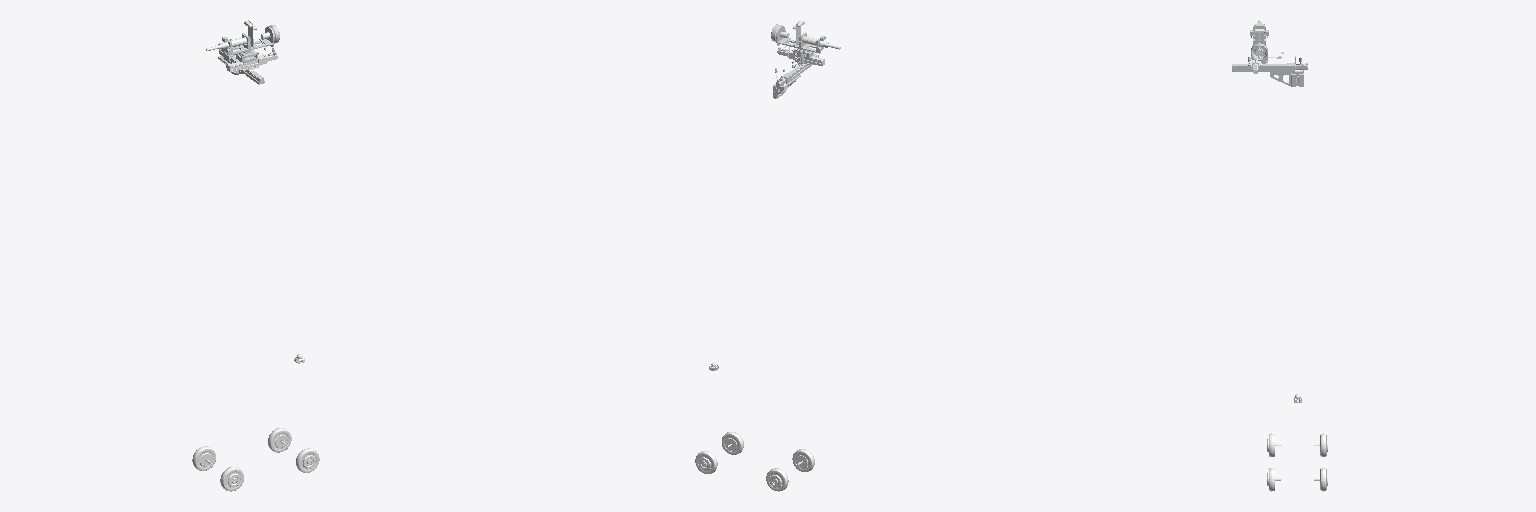
The robot description file, URDF, robot "bdrobot_description":
<?xml version="1.0" encoding="utf-8"?>
<!-- This URDF was automatically created by SolidWorks to URDF Exporter! Originally created by Stephen Brawner (brawner@gmail.com) 
     Commit Version: 1.5.1-0-g916b5db  Build Version: 1.5.7152.31018
     For more information, please see http://wiki.ros.org/sw_urdf_exporter -->
<robot
  name="bdrobot_description">
  <link
    name="base_link">
    <inertial>
      <origin
        xyz="-0.0057476 -0.039381 0.11133"
        rpy="0 0 0" />
      <mass
        value="77.125" />
      <inertia
        ixx="1.2277"
        ixy="-1.443E-05"
        ixz="0.00093912"
        iyy="1.46175"
        iyz="0.00072698"
        izz="2.5319" />
    </inertial>
    <visual>
      <origin
        xyz="0 0 0"
        rpy="0 0 0" />
      <geometry>
        <mesh
          filename="package://bdrobot_description/meshes/base_link.STL" />
      </geometry>
      <material
        name="">
        <color
          rgba="1 1 1 1" />
      </material>
    </visual>
    <collision>
      <origin
        xyz="0 0 0"
        rpy="0 0 0" />
      <geometry>
        <mesh
          filename="package://bdrobot_description/meshes/base_link.STL" />
      </geometry>
    </collision>
  </link>
  <link
    name="lf_wheel_link">
    <inertial>
      <origin
        xyz="2.0055E-08 -0.039382 -5.463E-06"
        rpy="0 0 0" />
      <mass
        value="1.1009" />
      <inertia
        ixx="0.0032477"
        ixy="7.747E-12"
        ixz="-4.8792E-09"
        iyy="0.0061426"
        iyz="-4.7801E-08"
        izz="0.0032478" />
    </inertial>
    <visual>
      <origin
        xyz="0 0 0"
        rpy="0 0 0" />
      <geometry>
        <mesh
          filename="package://bdrobot_description/meshes/lf_wheel_link.STL" />
      </geometry>
      <material
        name="">
        <color
          rgba="1 1 1 1" />
      </material>
    </visual>
    <collision>
      <origin
        xyz="0 0 0"
        rpy="0 0 0" />
      <geometry>
        <mesh
          filename="package://bdrobot_description/meshes/lf_wheel_link.STL" />
      </geometry>
    </collision>
  </link>
  <joint
    name="lf_wheel_joint"
    type="continuous">
    <origin
      xyz="0.33 0.212500156272493 -0.0160000000000001"
      rpy="0 0 0" />
    <parent
      link="base_link" />
    <child
      link="lf_wheel_link" />
    <axis
      xyz="0 1 0" />
  </joint>
  <link
    name="rf_wheel_link">
    <inertial>
      <origin
        xyz="5.29620937661512E-08 0.0393821808561944 -5.47873021344847E-06"
        rpy="0 0 0" />
      <mass
        value="1.1009175459377" />
      <inertia
        ixx="0.0032477285286827"
        ixy="2.09337415565818E-10"
        ixz="1.80772458655407E-09"
        iyy="0.00614266777390348"
        iyz="4.7673237071187E-08"
        izz="0.00324782091696794" />
    </inertial>
    <visual>
      <origin
        xyz="0 0 0"
        rpy="0 0 0" />
      <geometry>
        <mesh
          filename="package://bdrobot_description/meshes/rf_wheel_link.STL" />
      </geometry>
      <material
        name="">
        <color
          rgba="1 1 1 1" />
      </material>
    </visual>
    <collision>
      <origin
        xyz="0 0 0"
        rpy="0 0 0" />
      <geometry>
        <mesh
          filename="package://bdrobot_description/meshes/rf_wheel_link.STL" />
      </geometry>
    </collision>
  </link>
  <joint
    name="rf_wheel_joint"
    type="continuous">
    <origin
      xyz="0.33 -0.289599843727507 -0.0160000000000001"
      rpy="0 0 0" />
    <parent
      link="base_link" />
    <child
      link="rf_wheel_link" />
    <axis
      xyz="0 1 0" />
  </joint>
  <link
    name="lr_wheel_link">
    <inertial>
      <origin
        xyz="-5.29804374260756E-08 -0.0393821808893136 -5.47871668049593E-06"
        rpy="0 0 0" />
      <mass
        value="1.10091754456913" />
      <inertia
        ixx="0.0032477285285122"
        ixy="2.0932461023064E-10"
        ixz="-1.80794897802739E-09"
        iyy="0.00614266777316681"
        iyz="-4.76732291800624E-08"
        izz="0.00324782091640295" />
    </inertial>
    <visual>
      <origin
        xyz="0 0 0"
        rpy="0 0 0" />
      <geometry>
        <mesh
          filename="package://bdrobot_description/meshes/lr_wheel_link.STL" />
      </geometry>
      <material
        name="">
        <color
          rgba="1 1 1 1" />
      </material>
    </visual>
    <collision>
      <origin
        xyz="0 0 0"
        rpy="0 0 0" />
      <geometry>
        <mesh
          filename="package://bdrobot_description/meshes/lr_wheel_link.STL" />
      </geometry>
    </collision>
  </link>
  <joint
    name="lr_wheel_joint"
    type="continuous">
    <origin
      xyz="-0.33 0.212500156272493 -0.0160000000000011"
      rpy="0 0 0" />
    <parent
      link="base_link" />
    <child
      link="lr_wheel_link" />
    <axis
      xyz="0 1 0" />
  </joint>
  <link
    name="rr_wheel_link">
    <inertial>
      <origin
        xyz="-1.99943679946024E-08 0.0393821585062223 -5.46301029408225E-06"
        rpy="0 0 0" />
      <mass
        value="1.10092453588354" />
      <inertia
        ixx="0.00324772513243801"
        ixy="7.70626398651909E-12"
        ixz="4.87995273186742E-09"
        iyy="0.00614264806273597"
        iyz="4.78006195858918E-08"
        izz="0.00324780594587939" />
    </inertial>
    <visual>
      <origin
        xyz="0 0 0"
        rpy="0 0 0" />
      <geometry>
        <mesh
          filename="package://bdrobot_description/meshes/rr_wheel_link.STL" />
      </geometry>
      <material
        name="">
        <color
          rgba="1 1 1 1" />
      </material>
    </visual>
    <collision>
      <origin
        xyz="0 0 0"
        rpy="0 0 0" />
      <geometry>
        <mesh
          filename="package://bdrobot_description/meshes/rr_wheel_link.STL" />
      </geometry>
    </collision>
  </link>
  <joint
    name="rr_wheel_joint"
    type="continuous">
    <origin
      xyz="-0.33 -0.289599843727507 -0.0160000000000001"
      rpy="0 0 0" />
    <parent
      link="base_link" />
    <child
      link="rr_wheel_link" />
    <axis
      xyz="0 1 0" />
  </joint>
  <link
    name="arm_base_link">
    <inertial>
      <origin
        xyz="-0.065411 0.000157 0.36344"
        rpy="0 0 0" />
      <mass
        value="26.715" />
      <inertia
        ixx="2.4605"
        ixy="2.7571E-07"
        ixz="0.0011556"
        iyy="2.6951"
        iyz="-1.5377E-05"
        izz="0.47827" />
    </inertial>
    <visual>
      <origin
        xyz="0 0 0"
        rpy="0 0 0" />
      <geometry>
        <mesh
          filename="package://bdrobot_description/meshes/arm_base_link.STL" />
      </geometry>
      <material
        name="">
        <color
          rgba="1 1 1 1" />
      </material>
    </visual>
    <collision>
      <origin
        xyz="0 0 0"
        rpy="0 0 0" />
      <geometry>
        <mesh
          filename="package://bdrobot_description/meshes/arm_base_link.STL" />
      </geometry>
    </collision>
  </link>
  <joint
    name="arm_base_joint"
    type="fixed">
    <origin
      xyz="-0.09252 -0.03855 0.3482"
      rpy="0 0 3.1416" />
    <parent
      link="base_link" />
    <child
      link="arm_base_link" />
    <axis
      xyz="0 0 0" />
  </joint>
  <link
    name="lidar_link">
    <inertial>
      <origin
        xyz="-0.000247054269689457 5.18231249267975E-05 -0.0249880180291789"
        rpy="0 0 0" />
      <mass
        value="0.141548371901221" />
      <inertia
        ixx="4.17319545590906E-05"
        ixy="2.74393576609784E-10"
        ixz="3.91689095946493E-07"
        iyy="4.48884292602418E-05"
        iyz="4.00404529873333E-09"
        izz="6.86597202439764E-05" />
    </inertial>
    <visual>
      <origin
        xyz="0 0 0"
        rpy="0 0 0" />
      <geometry>
        <mesh
          filename="package://bdrobot_description/meshes/lidar_link.STL" />
      </geometry>
      <material
        name="">
        <color
          rgba="1 1 1 1" />
      </material>
    </visual>
    <collision>
      <origin
        xyz="0 0 0"
        rpy="0 0 0" />
      <geometry>
        <mesh
          filename="package://bdrobot_description/meshes/lidar_link.STL" />
      </geometry>
    </collision>
  </link>
  <joint
    name="lidar_joint"
    type="fixed">
    <origin
      xyz="-0.475948365528432 0 0.414999999999999"
      rpy="0 0 -1.5707963267949" />
    <parent
      link="arm_base_link" />
    <child
      link="lidar_link" />
    <axis
      xyz="0 0 0" />
  </joint>
  <link
    name="arm1_link">
    <inertial>
      <origin
        xyz="-0.019289 0.00028774 0.67545"
        rpy="0 0 0" />
      <mass
        value="14.173" />
      <inertia
        ixx="2.3406"
        ixy="-6.2364E-07"
        ixz="0.00024335"
        iyy="2.3241"
        iyz="-1.6296E-05"
        izz="0.020904" />
    </inertial>
    <visual>
      <origin
        xyz="0 0 0"
        rpy="0 0 0" />
      <geometry>
        <mesh
          filename="package://bdrobot_description/meshes/arm1_link.STL" />
      </geometry>
      <material
        name="">
        <color
          rgba="1 1 1 1" />
      </material>
    </visual>
    <collision>
      <origin
        xyz="0 0 0"
        rpy="0 0 0" />
      <geometry>
        <mesh
          filename="package://bdrobot_description/meshes/arm1_link.STL" />
      </geometry>
    </collision>
  </link>
  <joint
    name="arm1_joint"
    type="prismatic">
    <origin
      xyz="0.09 0 1.3847"
      rpy="0 0 0" />
    <parent
      link="arm_base_link" />
    <child
      link="arm1_link" />
    <axis
      xyz="0 0 1" />
    <limit
      lower="-1.35"
      upper="0"
      effort="800"
      velocity="1" />
  </joint>
  <link
    name="arm2_link">
    <inertial>
      <origin
        xyz="-0.0047171 -0.015529 0.12162"
        rpy="0 0 0" />
      <mass
        value="3.9798" />
      <inertia
        ixx="0.047622"
        ixy="-1.8447E-05"
        ixz="-1.7615E-05"
        iyy="0.047204"
        iyz="0.00036514"
        izz="0.0022044" />
    </inertial>
    <visual>
      <origin
        xyz="0 0 0"
        rpy="0 0 0" />
      <geometry>
        <mesh
          filename="package://bdrobot_description/meshes/arm2_link.STL" />
      </geometry>
      <material
        name="">
        <color
          rgba="0.89804 0.91765 0.92941 1" />
      </material>
    </visual>
    <collision>
      <origin
        xyz="0 0 0"
        rpy="0 0 0" />
      <geometry>
        <mesh
          filename="package://bdrobot_description/meshes/arm2_link.STL" />
      </geometry>
    </collision>
  </link>
  <joint
    name="arm2_joint"
    type="prismatic">
    <origin
      xyz="0.075682 0.094866 1.6597"
      rpy="-1.5708 0 0" />
    <parent
      link="arm1_link" />
    <child
      link="arm2_link" />
    <axis
      xyz="0 -1 0" />
    <limit
      lower="-1.4"
      upper="0"
      effort="600"
      velocity="1" />
  </joint>
  <link
    name="arm3_link">
    <inertial>
      <origin
        xyz="0.0313438369595258 -0.000172218744697611 0.0138860381970993"
        rpy="0 0 0" />
      <mass
        value="1.82077344673195" />
      <inertia
        ixx="0.00726489668633472"
        ixy="4.20624998251187E-05"
        ixz="-6.04118269055179E-06"
        iyy="0.00726091062725561"
        iyz="3.04473952030562E-06"
        izz="0.000797310438903443" />
    </inertial>
    <visual>
      <origin
        xyz="0 0 0"
        rpy="0 0 0" />
      <geometry>
        <mesh
          filename="package://bdrobot_description/meshes/arm3_link.STL" />
      </geometry>
      <material
        name="">
        <color
          rgba="1 1 1 1" />
      </material>
    </visual>
    <collision>
      <origin
        xyz="0 0 0"
        rpy="0 0 0" />
      <geometry>
        <mesh
          filename="package://bdrobot_description/meshes/arm3_link.STL" />
      </geometry>
    </collision>
  </link>
  <joint
    name="arm3_joint"
    type="prismatic">
    <origin
      xyz="0.0017592 -0.07 0.06464"
      rpy="-1.5708 0 -1.5708" />
    <parent
      link="arm2_link" />
    <child
      link="arm3_link" />
    <axis
      xyz="0 -1 0" />
    <limit
      lower="0.01"
      upper="0.36"
      effort="400"
      velocity="1" />
  </joint>
  <link
    name="arm4_link">
    <inertial>
      <origin
        xyz="0.008039382003073 -0.0018029400078996 0.0271024239151401"
        rpy="0 0 0" />
      <mass
        value="1.24039808190625" />
      <inertia
        ixx="0.00230245084591217"
        ixy="-1.87899149424791E-06"
        ixz="-1.06623851159966E-05"
        iyy="0.000802269966761739"
        iyz="-1.26749455016738E-05"
        izz="0.0029717341534119" />
    </inertial>
    <visual>
      <origin
        xyz="0 0 0"
        rpy="0 0 0" />
      <geometry>
        <mesh
          filename="package://bdrobot_description/meshes/arm4_link.STL" />
      </geometry>
      <material
        name="">
        <color
          rgba="0.898039215686275 0.917647058823529 0.929411764705882 1" />
      </material>
    </visual>
    <collision>
      <origin
        xyz="0 0 0"
        rpy="0 0 0" />
      <geometry>
        <mesh
          filename="package://bdrobot_description/meshes/arm4_link.STL" />
      </geometry>
    </collision>
  </link>
  <joint
    name="arm4_joint"
    type="prismatic">
    <origin
      xyz="0.07 0.013102 0.0036618"
      rpy="1.5708 0 1.5708" />
    <parent
      link="arm3_link" />
    <child
      link="arm4_link" />
    <axis
      xyz="0 1 0" />
    <limit
      lower="0"
      upper="0.15"
      effort="200"
      velocity="1" />
  </joint>
  <link
    name="arm5_link">
    <inertial>
      <origin
        xyz="-0.00237192649642326 -9.652144863731E-06 0.0363750371305445"
        rpy="0 0 0" />
      <mass
        value="2.0482316422202" />
      <inertia
        ixx="0.0033302204217937"
        ixy="-2.83111904508034E-07"
        ixz="-4.87665728682621E-05"
        iyy="0.00917292833135536"
        iyz="1.72219584285786E-07"
        izz="0.00990543411370346" />
    </inertial>
    <visual>
      <origin
        xyz="0 0 0"
        rpy="0 0 0" />
      <geometry>
        <mesh
          filename="package://bdrobot_description/meshes/arm5_link.STL" />
      </geometry>
      <material
        name="">
        <color
          rgba="0.898039215686275 0.917647058823529 0.929411764705882 1" />
      </material>
    </visual>
    <collision>
      <origin
        xyz="0 0 0"
        rpy="0 0 0" />
      <geometry>
        <mesh
          filename="package://bdrobot_description/meshes/arm5_link.STL" />
      </geometry>
    </collision>
  </link>
  <joint
    name="arm5_joint"
    type="revolute">
    <origin
      xyz="0.019804 -0.006984 0.08"
      rpy="0 0 1.5708" />
    <parent
      link="arm4_link" />
    <child
      link="arm5_link" />
    <axis
      xyz="0 0 1" />
    <limit
      lower="-3.1416"
      upper="3.1416"
      effort="50"
      velocity="1" />
  </joint>
  <link
    name="camera_link">
    <inertial>
      <origin
        xyz="0.0247260864954423 -0.000283173607896536 -0.0115609707848"
        rpy="0 0 0" />
      <mass
        value="0.0182734061965469" />
      <inertia
        ixx="1.69289076092524E-06"
        ixy="-1.08942959560122E-08"
        ixz="4.8119055496781E-09"
        iyy="1.31462303757811E-05"
        iyz="-1.98241320080072E-08"
        izz="1.38475102497494E-05" />
    </inertial>
    <visual>
      <origin
        xyz="0 0 0"
        rpy="0 0 0" />
      <geometry>
        <mesh
          filename="package://bdrobot_description/meshes/camera_link.STL" />
      </geometry>
      <material
        name="">
        <color
          rgba="1 1 1 1" />
      </material>
    </visual>
    <collision>
      <origin
        xyz="0 0 0"
        rpy="0 0 0" />
      <geometry>
        <mesh
          filename="package://bdrobot_description/meshes/camera_link.STL" />
      </geometry>
    </collision>
  </link>
  <joint
    name="camera_joint"
    type="fixed">
    <origin
      xyz="-0.0024686326802941 0.025 0.195"
      rpy="-1.5707963267949 0 -1.5707963267949" />
    <parent
      link="arm5_link" />
    <child
      link="camera_link" />
    <axis
      xyz="0 0 0" />
  </joint>
  <link
    name="camera_sub_link">
    <inertial>
      <origin
        xyz="0.0247260869164004 -0.000283173488454302 -0.011560971003687"
        rpy="0 0 0" />
      <mass
        value="0.0182734065619961" />
      <inertia
        ixx="1.69289079712271E-06"
        ixy="-1.08943418761773E-08"
        ixz="4.81191023206214E-09"
        iyy="1.31462306009845E-05"
        iyz="-1.98241335436095E-08"
        izz="1.38475105099951E-05" />
    </inertial>
    <visual>
      <origin
        xyz="0 0 0"
        rpy="0 0 0" />
      <geometry>
        <mesh
          filename="package://bdrobot_description/meshes/camera_sub_link.STL" />
      </geometry>
      <material
        name="">
        <color
          rgba="1 1 1 1" />
      </material>
    </visual>
    <collision>
      <origin
        xyz="0 0 0"
        rpy="0 0 0" />
      <geometry>
        <mesh
          filename="package://bdrobot_description/meshes/camera_sub_link.STL" />
      </geometry>
    </collision>
  </link>
  <joint
    name="camera_sub_joint"
    type="fixed">
    <origin
      xyz="-0.0565086326802941 -0.025 0.165"
      rpy="-1.5707963267949 0 1.5707963267949" />
    <parent
      link="arm5_link" />
    <child
      link="camera_sub_link" />
    <axis
      xyz="0 0 0" />
  </joint>
  <link
    name="bounder_link">
    <inertial>
      <origin
        xyz="-0.13871 1.6653E-16 4.4409E-16"
        rpy="0 0 0" />
      <mass
        value="1" />
      <inertia
        ixx="0.00035"
        ixy="3.6428E-18"
        ixz="4.1111E-20"
        iyy="0.0072"
        iyz="-9.7645E-23"
        izz="0.0072" />
    </inertial>
    <visual>
      <origin
        xyz="0 0 0"
        rpy="0 0 0" />
      <geometry>
        <mesh
          filename="package://bdrobot_description/meshes/bounder_link.STL" />
      </geometry>
      <material
        name="">
        <color
          rgba="1 1 1 1" />
      </material>
    </visual>
    <collision>
      <origin
        xyz="0 0 0"
        rpy="0 0 0" />
      <geometry>
        <mesh
          filename="package://bdrobot_description/meshes/bounder_link.STL" />
      </geometry>
    </collision>
  </link>
  <joint
    name="bounder_joint"
    type="fixed">
    <origin
      xyz="0.264011367319705 0 0.0649999999999999"
      rpy="0 0 0" />
    <parent
      link="arm5_link" />
    <child
      link="bounder_link" />
    <axis
      xyz="0 0 0" />
  </joint>
  <link
    name="grinder_link">
    <inertial>
      <origin
        xyz="-0.0558397928285188 0 0"
        rpy="0 0 0" />
      <mass
        value="0.183565476941937" />
      <inertia
        ixx="6.30934100857164E-05"
        ixy="1.9055795087197E-23"
        ixz="1.17171399957516E-21"
        iyy="6.98779337983769E-05"
        iyz="-7.63970765939478E-22"
        izz="6.98404202817025E-05" />
    </inertial>
    <visual>
      <origin
        xyz="0 0 0"
        rpy="0 0 0" />
      <geometry>
        <mesh
          filename="package://bdrobot_description/meshes/grinder_link.STL" />
      </geometry>
      <material
        name="">
        <color
          rgba="1 1 1 1" />
      </material>
    </visual>
    <collision>
      <origin
        xyz="0 0 0"
        rpy="0 0 0" />
      <geometry>
        <mesh
          filename="package://bdrobot_description/meshes/grinder_link.STL" />
      </geometry>
    </collision>
  </link>
  <joint
    name="grinder_joint"
    type="continuous">
    <origin
      xyz="-0.25099 0 0.063"
      rpy="0 0 3.1416" />
    <parent
      link="arm5_link" />
    <child
      link="grinder_link" />
    <axis
      xyz="1 0 0" />
  </joint>
</robot>

--- What the picture shows (computed from the rendered views, not written in the file) ---
Views: 3 orthographic renders of the robot side by side, from view 1: azimuth 30°, elevation 25°; view 2: azimuth 150°, elevation 25°; view 3: azimuth 270°, elevation 25°.
Robot: bdrobot_description — 16 links, 15 joints (1 revolute, 5 continuous, 4 prismatic, 5 fixed); root link base_link; default pose: all joints at 0 but 1 set to mid-range because 0 is outside their limits (arm3_joint = 0.185).
Visible links, largest first — view 1: arm5_link; view 2: arm5_link; view 3: arm2_link.
Link boxes in pixels (<box>): arm5_link: <box>218,20,279,55</box>; arm5_link: <box>771,21,828,53</box>; arm2_link: <box>1232,56,1307,86</box>.
Bounding box of the posed robot: 1.04 × 0.7901 × 3.94 m (x, y, z).
Meshes: 16 distinct files referenced, 13 mesh visuals loaded (13 binary STL); not drawn: 3 (reference not matched to a file when rendering).
